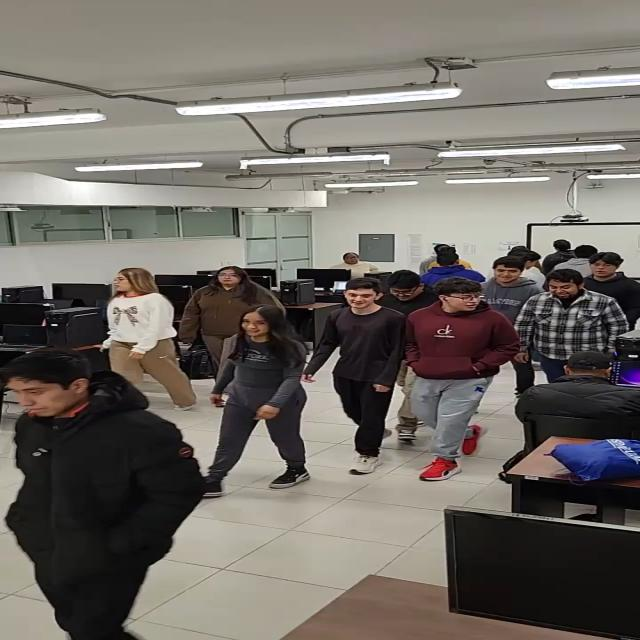Persona: (2, 348, 193, 640), (201, 307, 318, 504), (411, 278, 519, 484), (313, 277, 411, 479), (521, 270, 628, 392), (106, 259, 183, 415), (194, 259, 245, 373)
